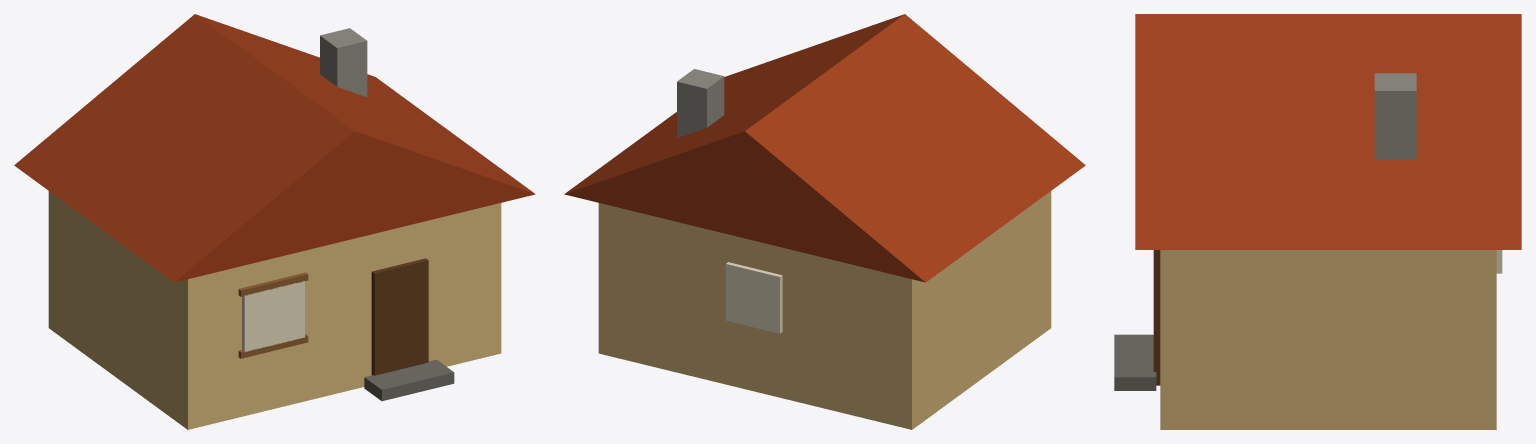
Rendered from farmhouse.glb.
3 renders of one model, left to right at view 1: azimuth 30°, elevation 25°; view 2: azimuth 150°, elevation 25°; view 3: azimuth 270°, elevation 25°, orthographic. The views are drawn at different scales.
Visible parts, largest first — view 1: farmhouse; view 2: farmhouse; view 3: farmhouse.
Part boxes in pixels (x1,y1,x2,y2): farmhouse: (14,14,535,429); farmhouse: (564,14,1085,429); farmhouse: (1114,14,1521,429).
Bounding box in the file's own units: 6 × 4.25 × 4.85.
